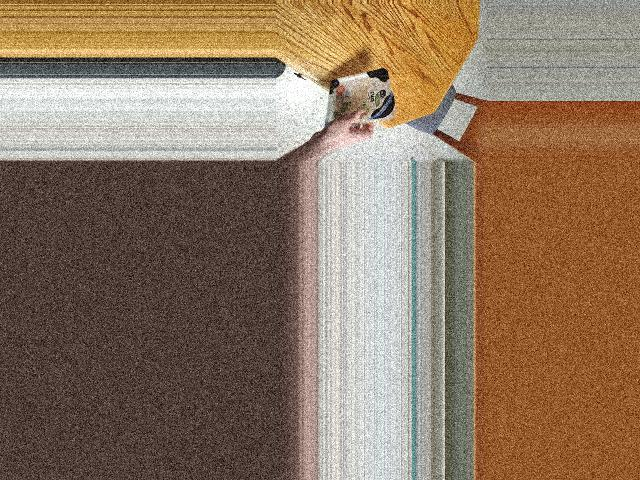cheese: (313, 72, 397, 128)
